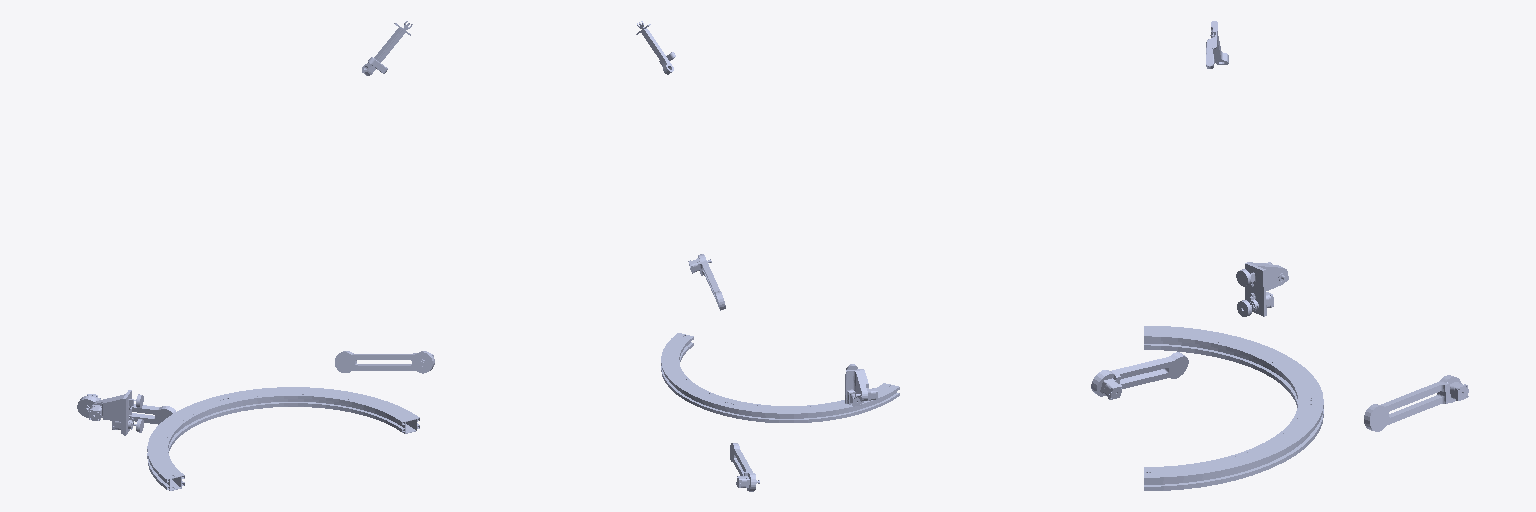
The robot description file, URDF, robot "urdf_assembly2":
<?xml version="1.0" encoding="utf-8"?>
<!-- This URDF was automatically created by SolidWorks to URDF Exporter! Originally created by [author] ([email redacted]) 
     Commit Version: 1.6.0-4-g7f85cfe  Build Version: 1.6.7995.38578
     For more information, please see http://wiki.ros.org/sw_urdf_exporter -->
<robot
  name="urdf_assembly2">
  <link name="world"/>
<joint name="base_joint" type="fixed">
<parent link="world"/>
<child link="base_link"/>
<origin rpy="0 0 0" xyz="0.0 0.0 0.17"/>
</joint>
  <link
    name="base_link">
    <inertial>
      <origin
        xyz="0.0134998763466692 0.0988967648724951 0.0244735786313578"
        rpy="0 0 0" />
      <mass
        value="0.906387179672496" />
      <inertia
        ixx="0.0219338168202344"
        ixy="2.99239799605999E-17"
        ixz="-7.41805477919565E-18"
        iyy="0.0219338168202349"
        iyz="-7.53308387446783E-17"
        izz="0.0433675810662887" />
    </inertial>
    <visual>
      <origin
        xyz="0 0 0"
        rpy="0 0 0" />
      <geometry>
        <mesh
          filename="package://urdf_assembly2/meshes/base_link.STL" />
      </geometry>
      <material
        name="">
        <color
          rgba="0.792156862745098 0.819607843137255 0.933333333333333 1" />
      </material>
    </visual>
    <collision>
      <origin
        xyz="0 0 0"
        rpy="0 0 0" />
      <geometry>
        <mesh
          filename="package://urdf_assembly2/meshes/base_link.STL" />
      </geometry>
    </collision>
  </link>
  <link
    name="link_1">
    <inertial>
      <origin
        xyz="0.49335 0.35015 -0.14849"
        rpy="0 0 0" />
      <mass
        value="0.70484" />
      <inertia
        ixx="0.00091738"
        ixy="-8.2523E-05"
        ixz="-0.00014882"
        iyy="0.00072923"
        iyz="3.1654E-05"
        izz="0.00098046" />
    </inertial>
    <visual>
      <origin
        xyz="0 0 0"
        rpy="0 0 0" />
      <geometry>
        <mesh
          filename="package://urdf_assembly2/meshes/link_1.STL" />
      </geometry>
      <material
        name="">
        <color
          rgba="0.79216 0.81961 0.93333 1" />
      </material>
    </visual>
    <collision>
      <origin
        xyz="0 0 0"
        rpy="0 0 0" />
      <geometry>
        <mesh
          filename="package://urdf_assembly2/meshes/link_1.STL" />
      </geometry>
    </collision>
  </link>
  <joint
    name="joint_1"
    type="fixed">
    <origin
      xyz="-0.46183 0.047213 0.46192"
      rpy="-1.5708 0 0.76172" />
    <parent
      link="base_link" />
    <child
      link="link_1" />
    <axis
      xyz="0 0 0" />
  </joint>
  <link
    name="link_2">
    <inertial>
      <origin
        xyz="0.089447 -0.16983 -0.035259"
        rpy="0 0 0" />
      <mass
        value="0.57902" />
      <inertia
        ixx="0.0065109"
        ixy="0.00091045"
        ixz="-0.00021122"
        iyy="0.00056122"
        iyz="0.00090276"
        izz="0.0065062" />
    </inertial>
    <visual>
      <origin
        xyz="0 0 0"
        rpy="0 0 0" />
      <geometry>
        <mesh
          filename="package://urdf_assembly2/meshes/link_2.STL" />
      </geometry>
      <material
        name="">
        <color
          rgba="0.79216 0.81961 0.93333 1" />
      </material>
    </visual>
    <collision>
      <origin
        xyz="0 0 0"
        rpy="0 0 0" />
      <geometry>
        <mesh
          filename="package://urdf_assembly2/meshes/link_2.STL" />
      </geometry>
    </collision>
  </link>
  <joint
    name="joint_2"
    type="revolute">
    <origin
      xyz="0.4635 0.27961 -0.12664"
      rpy="0.08735 0.0036426 -0.0833" />
    <parent
      link="link_1" />
    <child
      link="link_2" />
    <axis
      xyz="0.72365 0 -0.69017" />
    <limit
      lower="0"
      upper="0"
      effort="0"
      velocity="0" />
  </joint>
  <link
    name="link_3">
    <inertial>
      <origin
        xyz="0.0015236 -0.16983 0.048597"
        rpy="0 0 0" />
      <mass
        value="0.57902" />
      <inertia
        ixx="0.0065109"
        ixy="0.00091045"
        ixz="-0.00021122"
        iyy="0.00056122"
        iyz="0.00090276"
        izz="0.0065062" />
    </inertial>
    <visual>
      <origin
        xyz="0 0 0"
        rpy="0 0 0" />
      <geometry>
        <mesh
          filename="package://urdf_assembly2/meshes/link_3.STL" />
      </geometry>
      <material
        name="">
        <color
          rgba="0.79216 0.81961 0.93333 1" />
      </material>
    </visual>
    <collision>
      <origin
        xyz="0 0 0"
        rpy="0 0 0" />
      <geometry>
        <mesh
          filename="package://urdf_assembly2/meshes/link_3.STL" />
      </geometry>
    </collision>
  </link>
  <joint
    name="joint_3"
    type="revolute">
    <origin
      xyz="0.043186 -0.2934 0.045281"
      rpy="-2.8411 -0.043608 -2.8554" />
    <parent
      link="link_2" />
    <child
      link="link_3" />
    <axis
      xyz="0.72365 0 -0.69017" />
    <limit
      lower="0"
      upper="0"
      effort="0"
      velocity="0" />
  </joint>
  <link
    name="link_4">
    <inertial>
      <origin
        xyz="-0.0072543 -0.020494 0.11174"
        rpy="0 0 0" />
      <mass
        value="0.17249" />
      <inertia
        ixx="0.00030529"
        ixy="3.4012E-05"
        ixz="-0.0002374"
        iyy="0.00056091"
        iyz="3.5666E-05"
        izz="0.00028271" />
    </inertial>
    <visual>
      <origin
        xyz="0 0 0"
        rpy="0 0 0" />
      <geometry>
        <mesh
          filename="package://urdf_assembly2/meshes/link_4.STL" />
      </geometry>
      <material
        name="">
        <color
          rgba="0.79216 0.81961 0.93333 1" />
      </material>
    </visual>
    <collision>
      <origin
        xyz="0 0 0"
        rpy="0 0 0" />
      <geometry>
        <mesh
          filename="package://urdf_assembly2/meshes/link_4.STL" />
      </geometry>
    </collision>
  </link>
  <joint
    name="joint_4"
    type="revolute">
    <origin
      xyz="0.043186 -0.2934 0.045281"
      rpy="0.84285 0.37072 -0.79235" />
    <parent
      link="link_3" />
    <child
      link="link_4" />
    <axis
      xyz="0.72365 0 -0.69017" />
    <limit
      lower="0"
      upper="0"
      effort="0"
      velocity="0" />
  </joint>
    <transmission name="link_1_trans">
<type>transmission_interface/SimpleTransmission</type>
<joint name="joint_1">
<hardwareInterface>hardware_interface/PositionJointInterface</hardwareInterface>
</joint>
<actuator name="link_1_motor">
<hardwareInterface>hardware_interface/PositionJointInterface</hardwareInterface>
<mechanicalReduction>1</mechanicalReduction>
</actuator>
</transmission>

<transmission name="link_2_trans">
<type>transmission_interface/SimpleTransmission</type>
<joint name="joint_2">
<hardwareInterface>hardware_interface/PositionJointInterface</hardwareInterface>
</joint>
<actuator name="link_2_motor">
<hardwareInterface>hardware_interface/PositionJointInterface</hardwareInterface>
<mechanicalReduction>1</mechanicalReduction>
</actuator>
</transmission>

<transmission name="link_3_trans">
<type>transmission_interface/SimpleTransmission</type>
<joint name="joint_3">
<hardwareInterface>hardware_interface/PositionJointInterface</hardwareInterface>
</joint>
<actuator name="link_3_motor">
<hardwareInterface>hardware_interface/PositionJointInterface</hardwareInterface>
<mechanicalReduction>1</mechanicalReduction>
</actuator>
</transmission>

<transmission name="link_4_trans">
<type>transmission_interface/SimpleTransmission</type>
<joint name="joint_4">
<hardwareInterface>hardware_interface/PositionJointInterface</hardwareInterface>
</joint>
<actuator name="link_4_motor">
<hardwareInterface>hardware_interface/PositionJointInterface</hardwareInterface>
<mechanicalReduction>1</mechanicalReduction>
</actuator>
</transmission>

<gazebo>
<plugin name="control"
filename="libgazebo_ros_control.so">
<robotNamespace>/</robotNamespace>
</plugin>
</gazebo>

<gazebo reference="link_1">
<selfCollide>true</selfCollide>
</gazebo>
v
<gazebo reference="link_2">
<selfCollide>true</selfCollide>
</gazebo>
<gazebo reference="link_3">
<selfCollide>true</selfCollide>
</gazebo>
<gazebo reference="link_4">
<selfCollide>true</selfCollide>
</gazebo>
</robot>

--- Facts derived from the render (not from the file) ---
3 views of the same robot in one strip: view 1: azimuth 30°, elevation 25°; view 2: azimuth 150°, elevation 25°; view 3: azimuth 270°, elevation 25° (orthographic).
Model urdf_assembly2 with 6 links and 5 joints (3 revolute, 2 fixed), rooted at world, posed every joint at zero.
Links seen in each view (by area): view 1: base_link, link_3, link_1, link_2, link_4; view 2: base_link, link_1, link_2, link_3, link_4; view 3: base_link, link_2, link_3, link_1, link_4.
Boxes of the visible links, x1,y1,x2,y2 form: base_link: (147,387,419,490); link_3: (335,351,434,373); link_1: (89,390,143,435); link_2: (77,394,175,424); link_4: (362,21,412,75); base_link: (661,333,899,422); link_1: (845,364,877,406); link_2: (730,443,759,491); link_3: (688,254,725,310); link_4: (636,21,675,74); base_link: (1144,326,1323,490); link_2: (1364,375,1468,431); link_3: (1091,352,1188,399); link_1: (1236,262,1288,316); link_4: (1206,21,1228,68).
Size in the robot's own frame: 1.27 by 1.13 by 1.68 metres.
Meshes: 5 distinct files referenced, 5 mesh visuals loaded (5 binary STL).